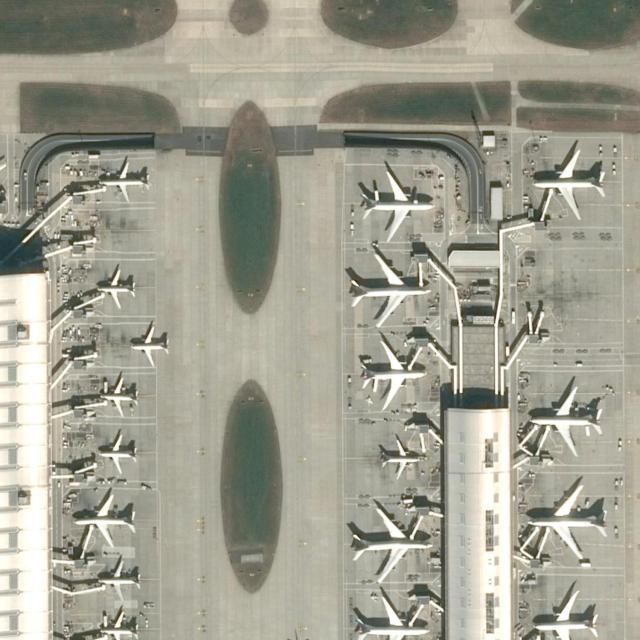Aircraft: (526, 483, 609, 562), (350, 506, 432, 581), (348, 253, 431, 327), (530, 144, 607, 220), (362, 168, 434, 242), (530, 384, 602, 454), (358, 340, 424, 412), (352, 595, 428, 640), (525, 589, 592, 640), (73, 494, 135, 548), (99, 160, 150, 202), (97, 375, 139, 416), (96, 561, 140, 600), (95, 268, 135, 308), (129, 325, 169, 365), (382, 436, 422, 476), (95, 434, 137, 472), (102, 612, 138, 640)
